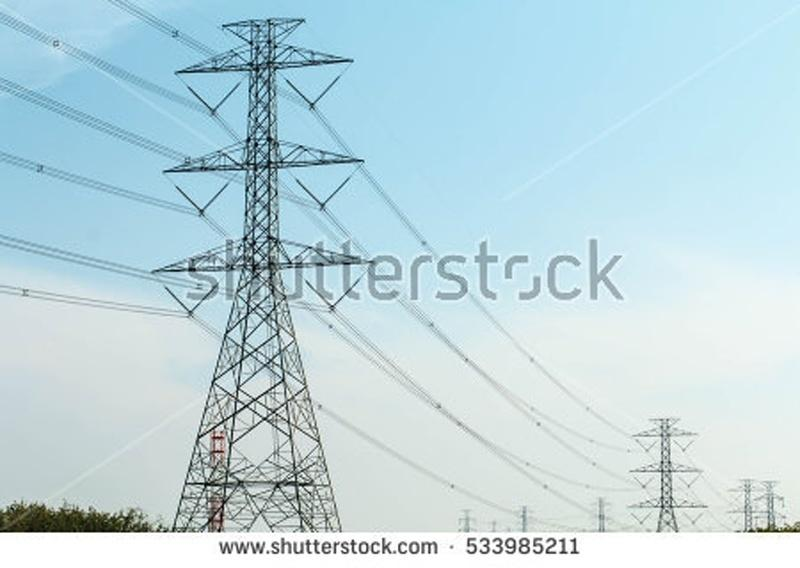power_tower: (150, 8, 351, 527), (634, 413, 703, 531)
